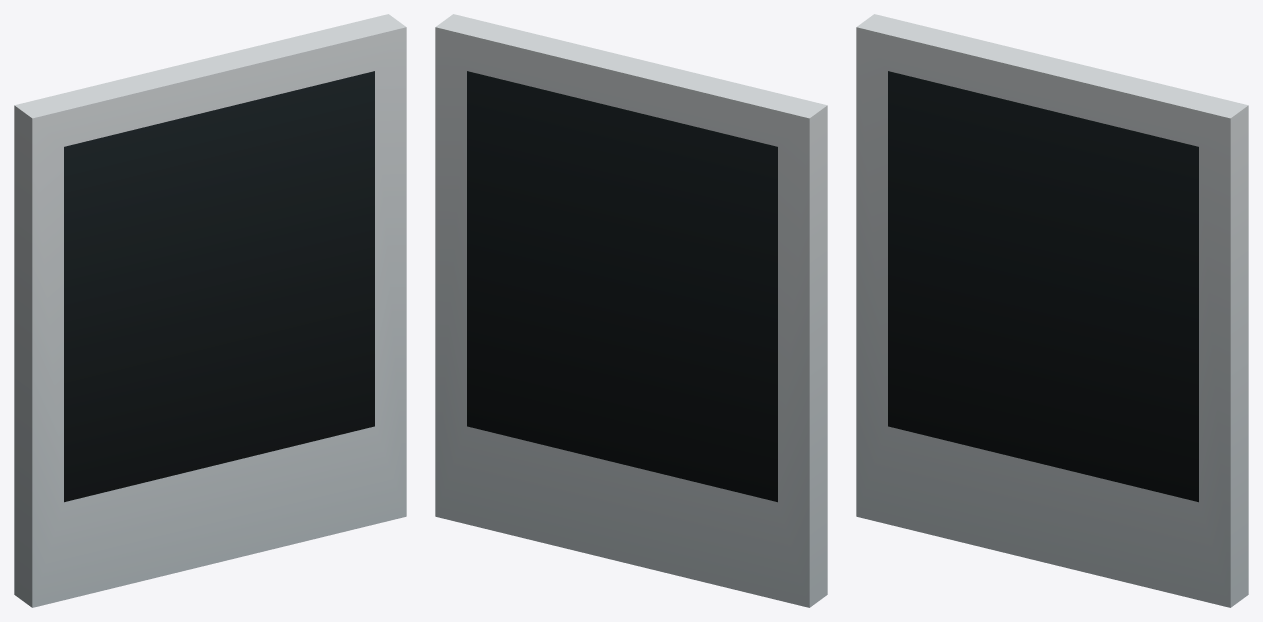
The model's file is instantcamera_picture_B.glb.
3 renders of one model, left to right at view 1: azimuth 30°, elevation 25°; view 2: azimuth 150°, elevation 25°; view 3: azimuth 330°, elevation 25°, orthographic.
Parts seen in each view (by area): view 1: instantcamera_picture_B; view 2: instantcamera_picture_B; view 3: instantcamera_picture_B.
Boxes of the visible parts, x1=… form: instantcamera_picture_B: x1=14, y1=14, x2=406, y2=607; instantcamera_picture_B: x1=435, y1=14, x2=827, y2=607; instantcamera_picture_B: x1=856, y1=14, x2=1248, y2=607.
Bounding box in the file's own units: 0.3419 × 0.4274 × 0.0285.
1 material, 1 textured.
